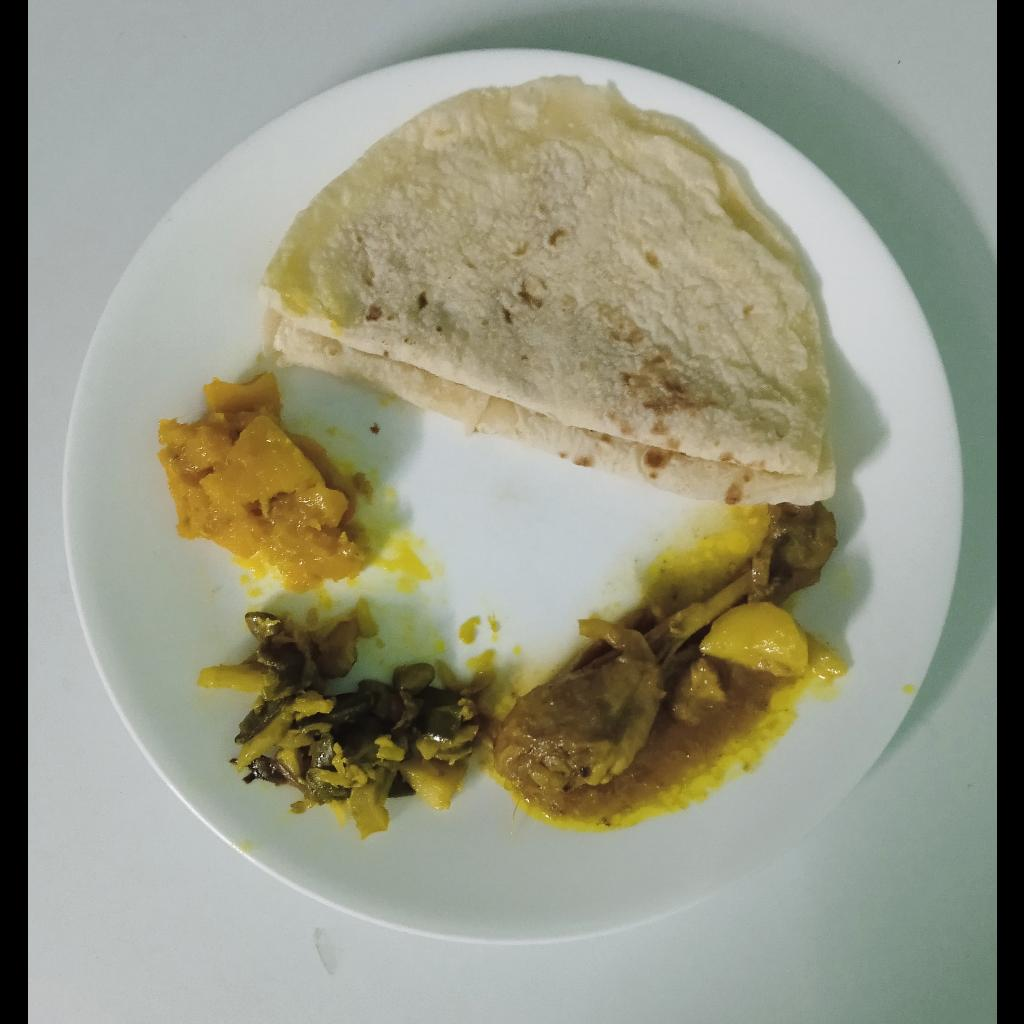chicken: (492, 511, 837, 795)
kumra-vaji: (155, 370, 368, 591)
potato: (697, 607, 815, 676)
ruti: (258, 77, 837, 506)
vegetable: (193, 611, 487, 835)
